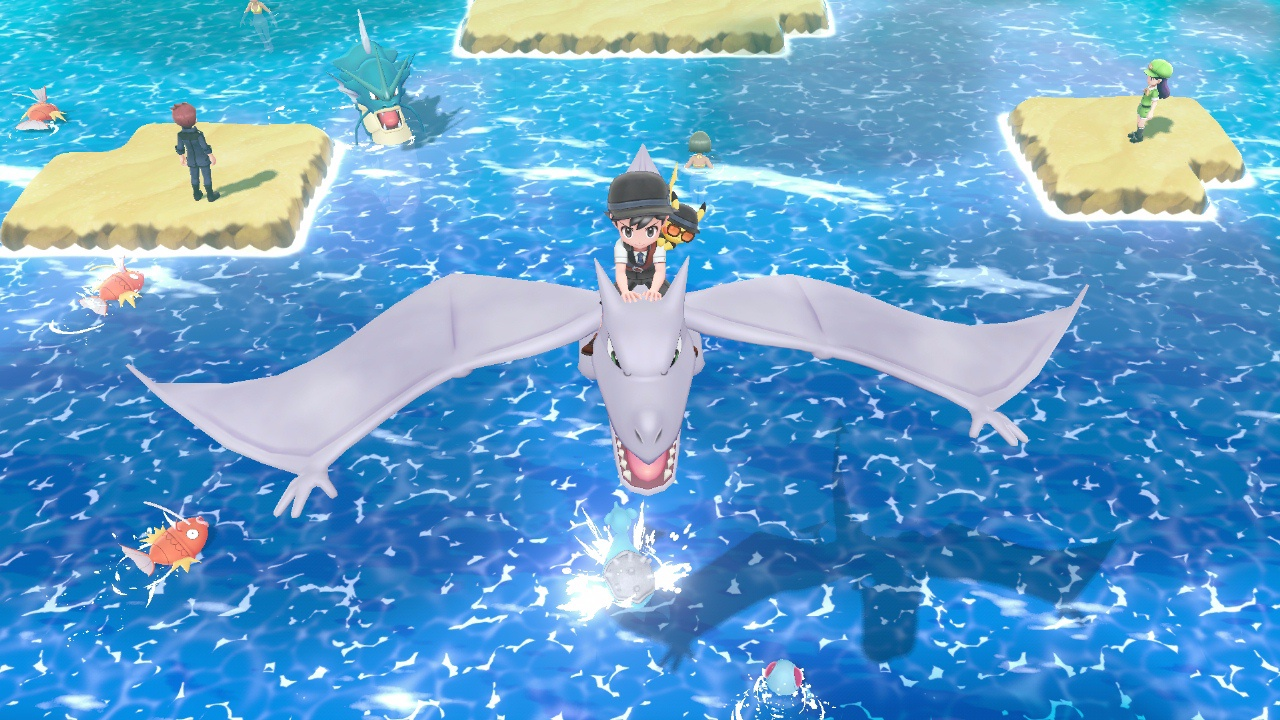Red: (121, 503, 211, 571), (79, 258, 146, 317), (17, 89, 67, 133)
